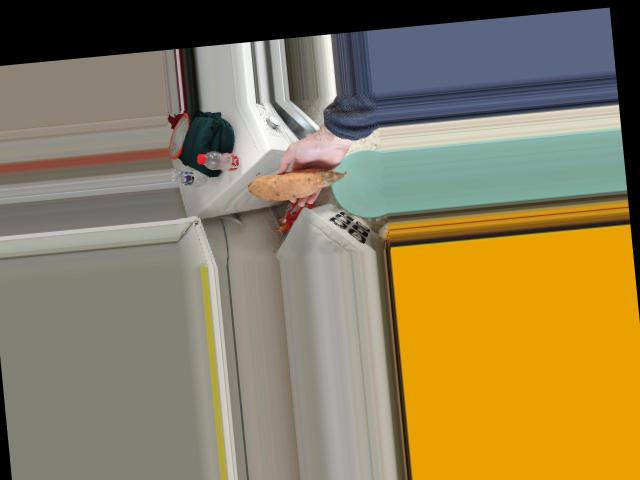sweet_potato: (238, 161, 328, 203)
